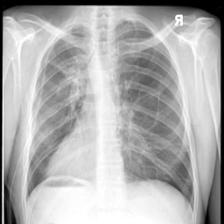tuberculosis: (15, 13, 202, 224)
